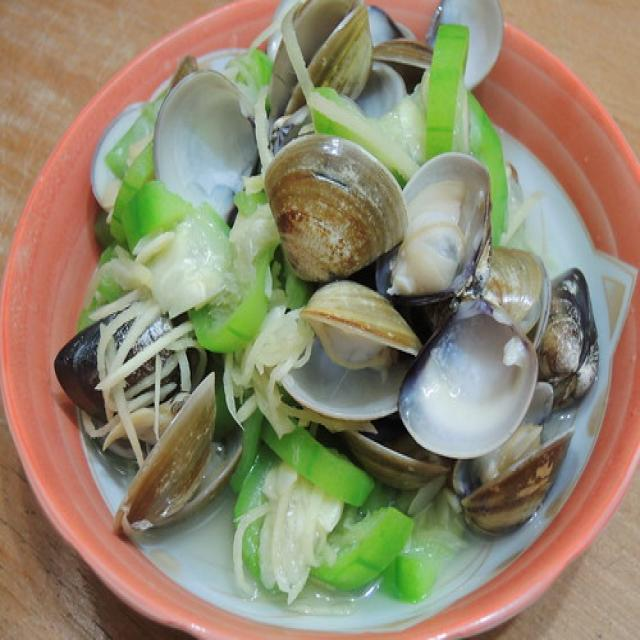Wet: (106, 0, 514, 568)
